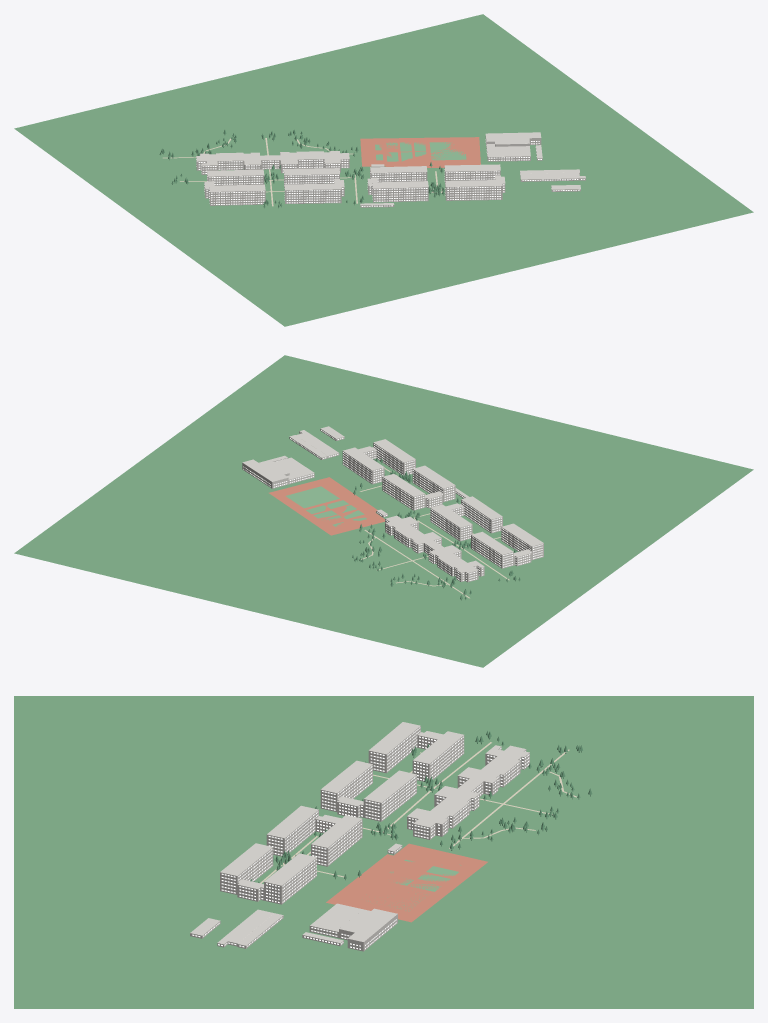
File: campus.glb
3 renders of one model, top to bottom at view 1: azimuth 30°, elevation 25°; view 2: azimuth 150°, elevation 25°; view 3: azimuth 270°, elevation 25°, orthographic. The views are drawn at different scales.
Visible parts, largest first — view 1: Env_Base, Ground, Env_Glow, Pitch_09, Building_jx1, Building_dorm1, Env_Trees, Building_dorm11, Building_dorm7, Building_dorm4, Building_dorm3, Building_dorm9 (+5 smaller); view 2: Env_Base, Ground, Env_Glow, Pitch_09, Building_jx1, Env_Trees, Building_dorm6, Building_dorm3, Building_dorm9, Building_dorm10, Building_dorm11, Building_dorm1 (+5 smaller); view 3: Env_Base, Ground, Pitch_09, Env_Glow, Building_jx1, Env_Trees, Building_dorm6, Building_dorm3, Building_canteen1, Building_dorm7, Building_dorm10, Building_dorm1 (+5 smaller).
Part boxes in pixels (x1,y1,x2,y2): Env_Base: [14, 14, 753, 326]; Ground: [135, 131, 631, 210]; Env_Glow: [196, 139, 584, 206]; Pitch_09: [360, 137, 480, 167]; Building_jx1: [196, 151, 349, 174]; Building_dorm1: [445, 180, 502, 200]; Env_Trees: [159, 130, 448, 207]; Building_dorm11: [372, 181, 428, 202]; Building_dorm7: [209, 184, 265, 205]; Building_dorm4: [284, 183, 341, 203]; Building_dorm3: [444, 164, 500, 184]; Building_dorm9: [207, 169, 264, 185]; Env_Base: [14, 355, 753, 667]; Ground: [210, 404, 559, 618]; Env_Glow: [243, 430, 542, 580]; Pitch_09: [269, 477, 384, 535]; Building_jx1: [385, 515, 484, 582]; Env_Trees: [352, 458, 520, 600]; Building_dorm6: [430, 504, 472, 541]; Building_dorm3: [342, 447, 384, 484]; Building_dorm9: [471, 531, 513, 568]; Building_dorm10: [382, 474, 424, 510]; Building_dorm11: [412, 465, 455, 502]; Building_dorm1: [373, 439, 415, 475]; Env_Base: [14, 696, 753, 1008]; Ground: [123, 736, 644, 972]; Pitch_09: [326, 843, 487, 922]; Env_Glow: [192, 727, 529, 949]; Building_jx1: [407, 745, 529, 839]; Env_Trees: [250, 731, 592, 882]; Building_dorm6: [363, 770, 416, 821]; Building_dorm3: [264, 853, 316, 904]; Building_canteen1: [339, 908, 397, 951]; Building_dorm7: [368, 722, 420, 773]; Building_dorm10: [311, 815, 362, 866]; Building_dorm1: [220, 843, 273, 894].
Bounding box in the file's own units: 699 × 20.15 × 699.
